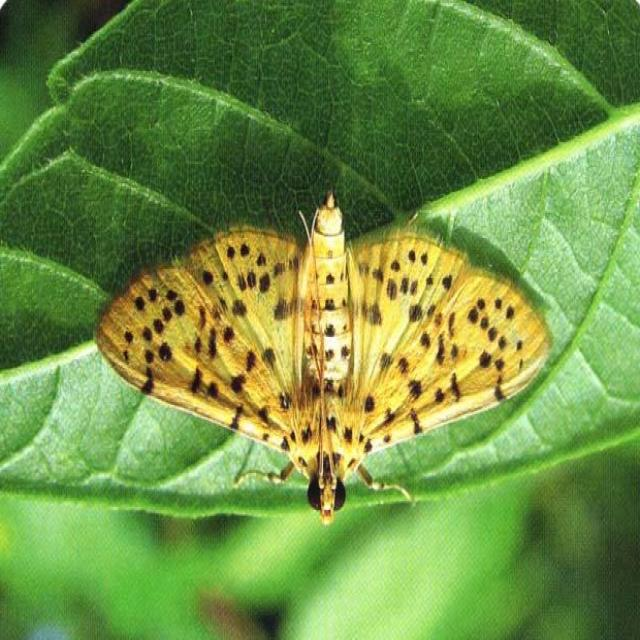peach borer: (85, 191, 553, 526)
